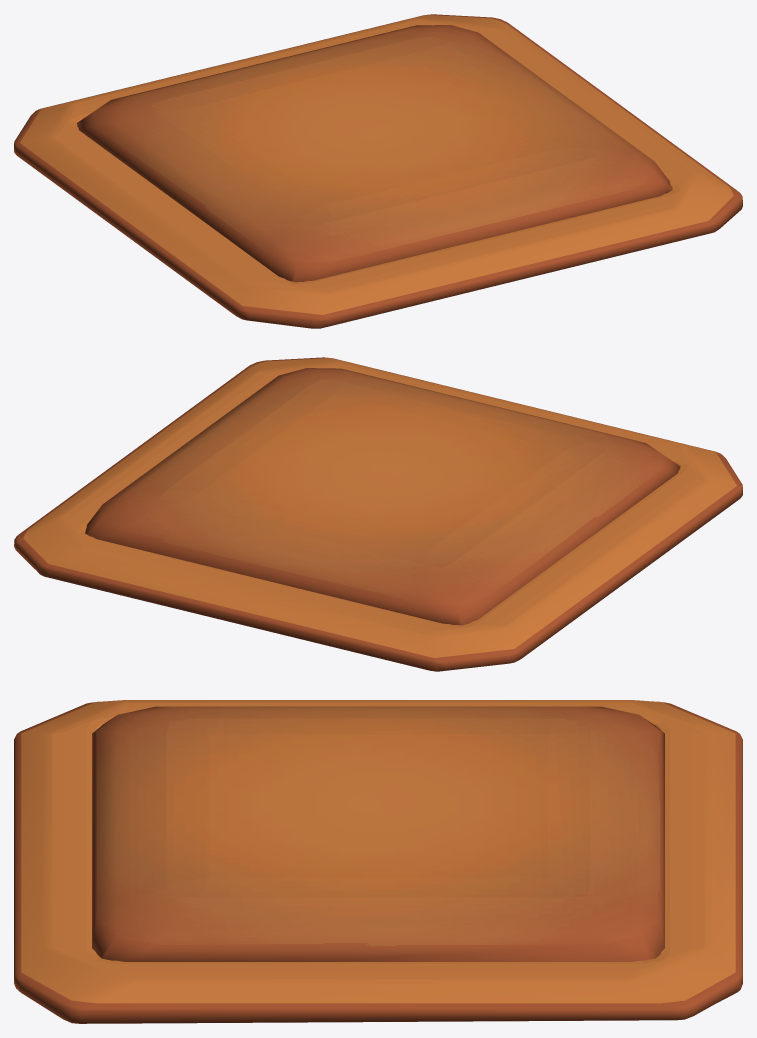
Rendered from BoarButton.gltf.
3 views of the same model, one above another, from view 1: azimuth 30°, elevation 25°; view 2: azimuth 150°, elevation 25°; view 3: azimuth 270°, elevation 25° (orthographic). The views are drawn at different scales.
Visible parts, largest first — view 1: Buttonn, BoarButton; view 2: Buttonn, BoarButton; view 3: Buttonn, BoarButton.
Boxes of the visible parts, box(x1,y1,x2,y2) form: Buttonn: box(77, 25, 671, 282); BoarButton: box(14, 14, 742, 328); Buttonn: box(85, 368, 679, 625); BoarButton: box(14, 357, 742, 671); Buttonn: box(92, 706, 664, 961); BoarButton: box(14, 700, 742, 1023).
Bounding box in the file's own units: 1.4 × 0.1386 × 1.4.
1 material, 1 textured.
